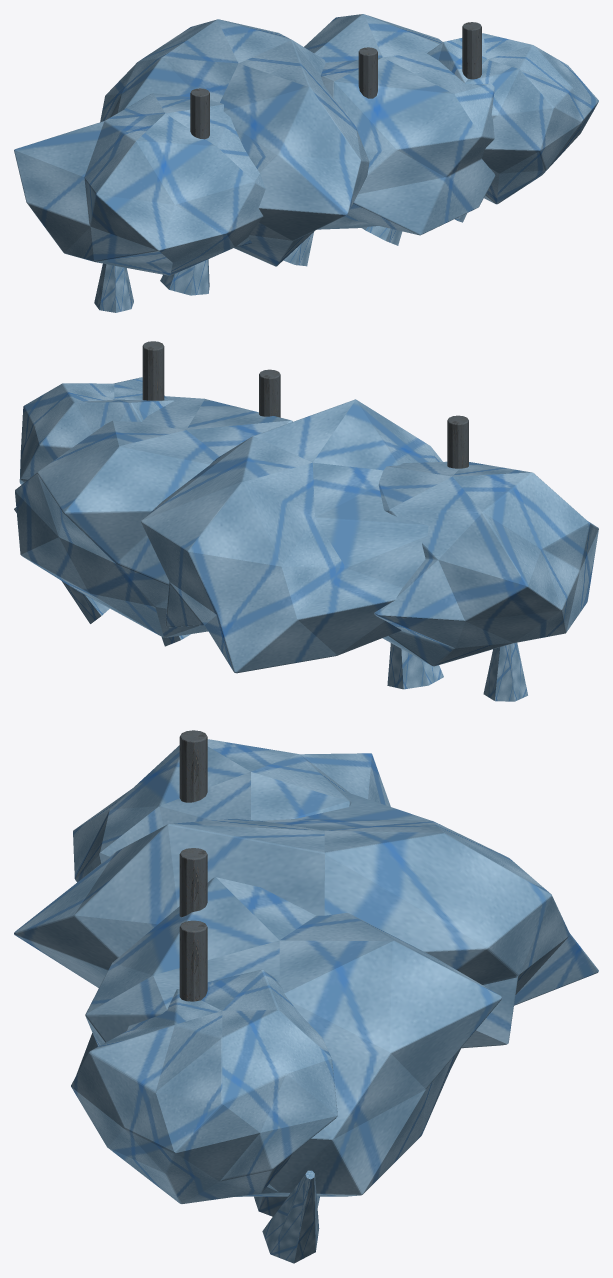
Rendered from glacier_shelf.glb.
The picture shows the model from 3 angles, top to bottom: view 1: azimuth 30°, elevation 25°; view 2: azimuth 150°, elevation 25°; view 3: azimuth 270°, elevation 25°; orthographic projection. The views are drawn at different scales.
Parts seen in each view (by area): view 1: GlacierMassA, GlacierMassB, GlacierMassC, GlacierMassD, IceShard_0, IceShard_1, FrozenAnchor_6.0, FrozenAnchor_-5.0, FrozenAnchor_1.8, IceShard_2, IceShard_3; view 2: GlacierMassB, GlacierMassA, GlacierMassC, GlacierMassD, IceShard_0, IceShard_1, FrozenAnchor_6.0, FrozenAnchor_-5.0, FrozenAnchor_1.8, IceShard_4; view 3: GlacierMassB, GlacierMassC, GlacierMassD, GlacierMassA, IceShard_4, FrozenAnchor_6.0, FrozenAnchor_-5.0, FrozenAnchor_1.8.
Boxes of the visible parts, <box> form: GlacierMassA: <box>14,93,265,275</box>; GlacierMassB: <box>100,19,369,266</box>; GlacierMassC: <box>304,14,495,235</box>; GlacierMassD: <box>427,33,598,204</box>; IceShard_0: <box>94,263,133,312</box>; IceShard_1: <box>160,259,209,295</box>; FrozenAnchor_6.0: <box>462,22,481,79</box>; FrozenAnchor_-5.0: <box>190,88,209,139</box>; FrozenAnchor_1.8: <box>358,47,377,98</box>; IceShard_2: <box>283,232,313,266</box>; IceShard_3: <box>362,226,402,245</box>; GlacierMassB: <box>141,399,442,673</box>; GlacierMassA: <box>374,461,598,666</box>; GlacierMassC: <box>15,396,292,637</box>; GlacierMassD: <box>19,377,173,484</box>; IceShard_0: <box>483,642,527,701</box>; IceShard_1: <box>387,643,443,689</box>; FrozenAnchor_6.0: <box>142,341,164,400</box>; FrozenAnchor_-5.0: <box>447,415,468,468</box>; FrozenAnchor_1.8: <box>259,369,280,417</box>; IceShard_4: <box>14,507,109,623</box>; GlacierMassB: <box>14,791,598,1048</box>; GlacierMassC: <box>76,877,501,1196</box>; GlacierMassD: <box>71,969,337,1203</box>; GlacierMassA: <box>73,739,390,882</box>; IceShard_4: <box>262,1170,319,1263</box>; FrozenAnchor_6.0: <box>179,920,207,1001</box>; FrozenAnchor_-5.0: <box>179,730,207,802</box>; FrozenAnchor_1.8: <box>179,848,207,917</box>.
Size of the model in its own units: 21.25 by 8.86 by 14.3.
4 materials, 4 textured.
